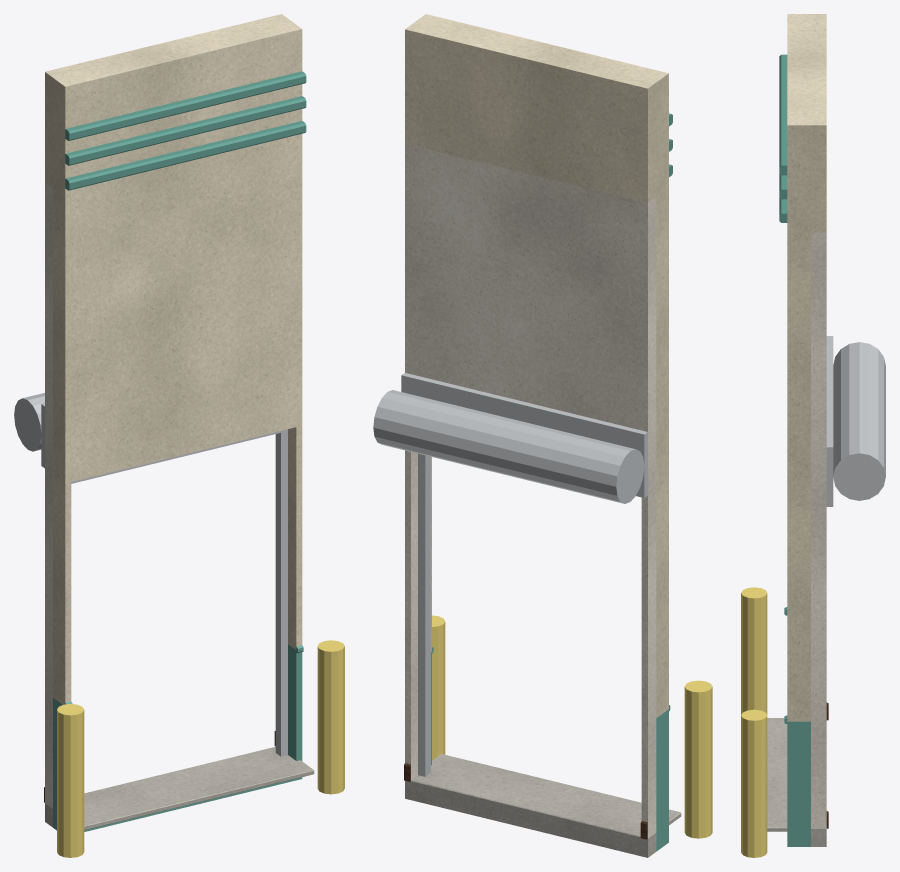
The model's file is w_dock.glb.
The picture shows the model from 3 angles, left to right: view 1: azimuth 30°, elevation 25°; view 2: azimuth 150°, elevation 25°; view 3: azimuth 270°, elevation 25°; orthographic projection. The views are drawn at different scales.
Parts seen in each view (by area): view 1: w_dock_render, w_dock_trim_g, w_dock_paint_y, w_dock_concrete, w_dock_steel, w_dock_plaster, w_dock_tile_g; view 2: w_dock_plaster, w_dock_render, w_dock_steel, w_dock_concrete, w_dock_paint_y, w_dock_tile_g; view 3: w_dock_render, w_dock_plaster, w_dock_steel, w_dock_paint_y, w_dock_tile_g, w_dock_concrete, w_dock_trim_g.
Part boxes in pixels (x1,y1,x2,y2): w_dock_render: (45,14,302,704); w_dock_trim_g: (65,71,306,190); w_dock_paint_y: (57,640,344,857); w_dock_concrete: (45,747,314,830); w_dock_steel: (14,393,287,756); w_dock_plaster: (45,184,52,808); w_dock_tile_g: (53,644,303,831); w_dock_plaster: (405,144,656,838); w_dock_render: (405,14,668,717); w_dock_steel: (373,373,647,776); w_dock_concrete: (405,754,681,857); w_dock_paint_y: (432,615,712,838); w_dock_tile_g: (431,647,670,851); w_dock_render: (787,14,826,721); w_dock_plaster: (811,232,826,828); w_dock_steel: (826,336,885,506); w_dock_paint_y: (741,587,767,857); w_dock_tile_g: (784,607,810,846); w_dock_concrete: (767,718,826,846); w_dock_trim_g: (779,54,787,222).
Bounding box in the file's own units: 2.4 × 6.05 × 1.1.
8 materials, 4 textured.
